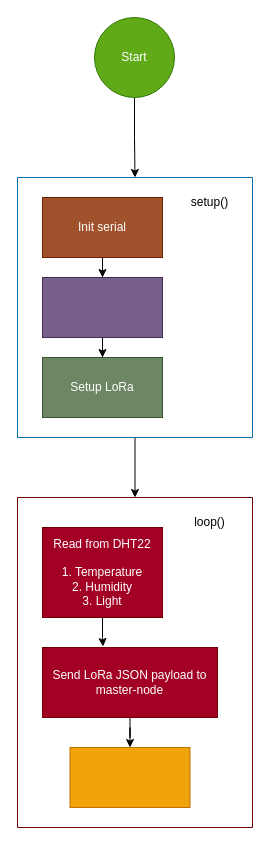
Some shapes in this 270 by 845 pixel diagram are drawn without their labels. The shapes that lost their labels are listed below. From the top down, each one's centre as x and y in pixels, then its label:
the point at 102,307: Activate DHT22
the point at 129,777: wait 1 min
